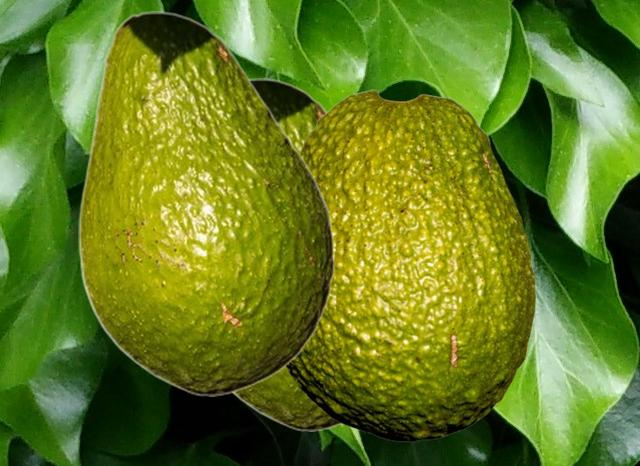avocado: (78, 11, 334, 395), (285, 89, 534, 441), (232, 78, 341, 430)
